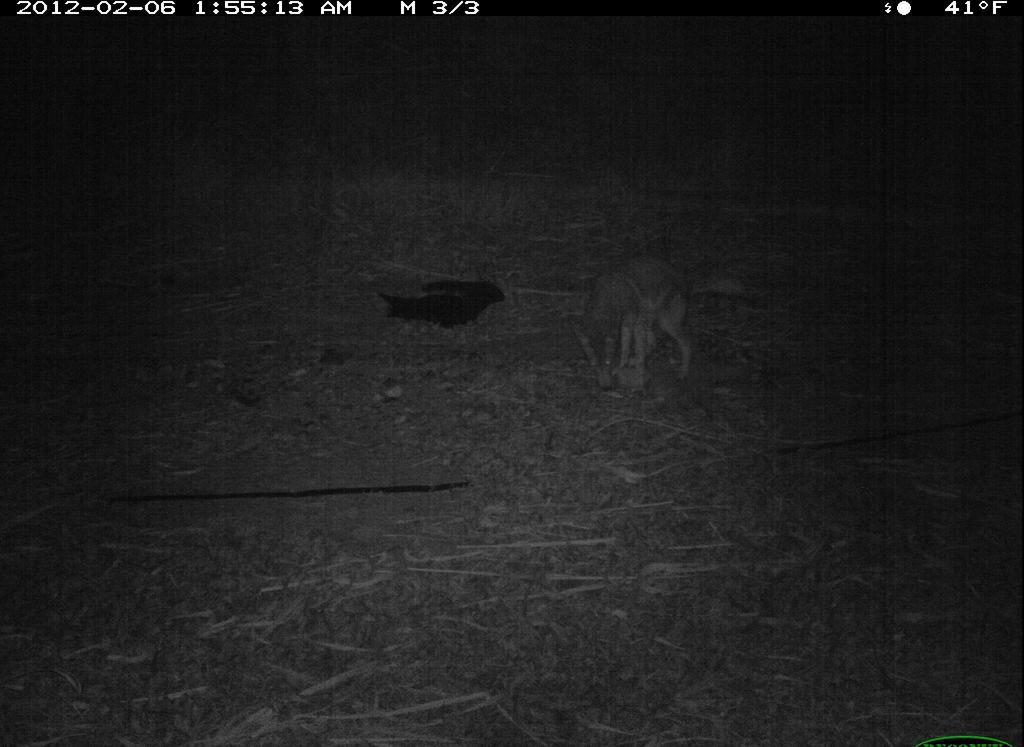coyote: (557, 253, 712, 406)
